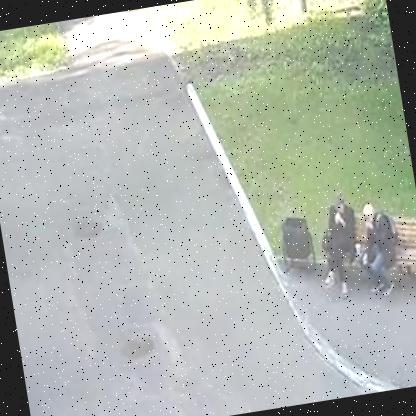person: (349, 192, 408, 303), (307, 191, 365, 300)
